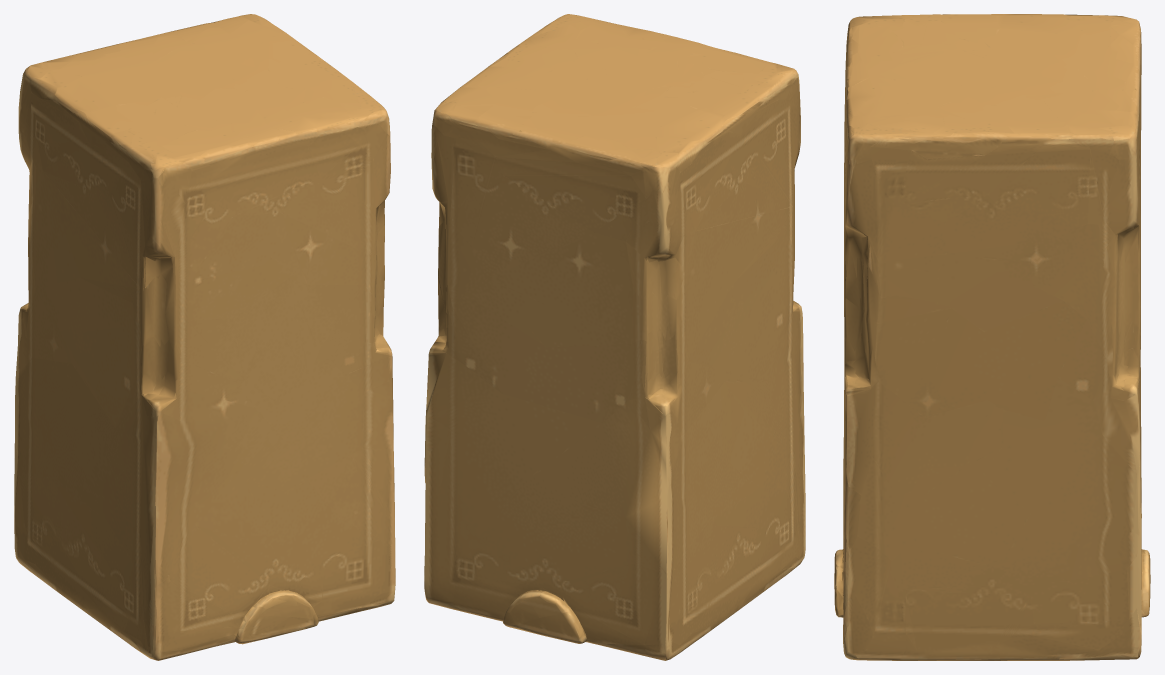
The model's file is cover_full_temple_v1.glb.
The picture shows the model from 3 angles, left to right: view 1: azimuth 30°, elevation 25°; view 2: azimuth 150°, elevation 25°; view 3: azimuth 270°, elevation 25°; orthographic projection. The views are drawn at different scales.
Bounding box in the file's own units: 0.9508 × 1.84 × 1.
Materials: 1 (1 with a texture image).
